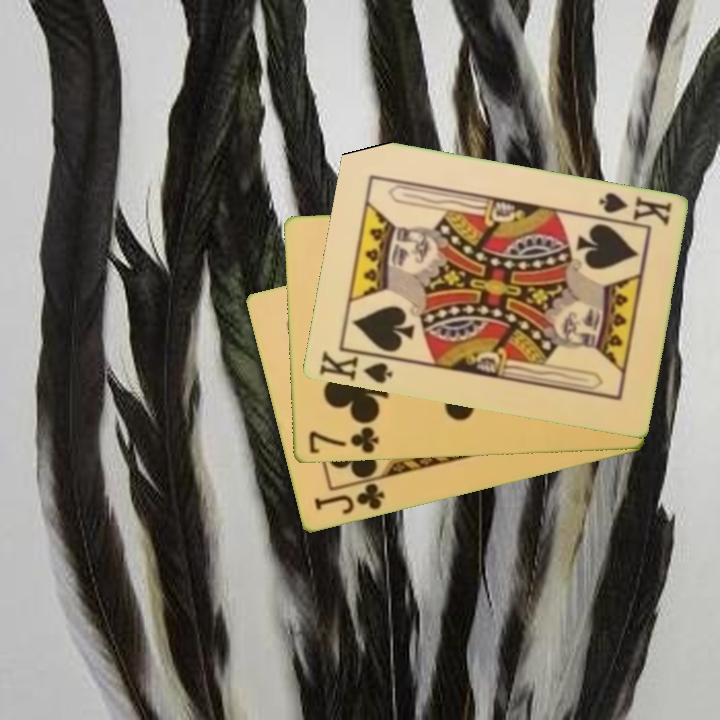7c: (305, 424, 382, 457)
Jc: (310, 480, 388, 518)
Ks: (315, 345, 399, 387), (594, 189, 674, 229)
